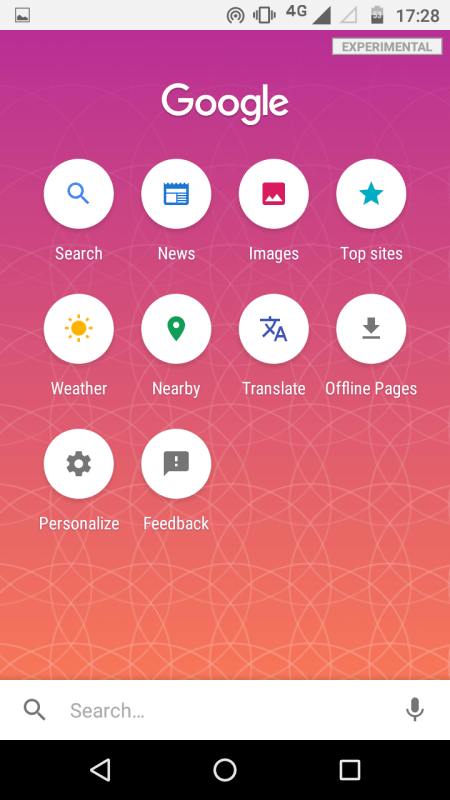searchIcon: (64, 172, 98, 217), (20, 695, 51, 732)
